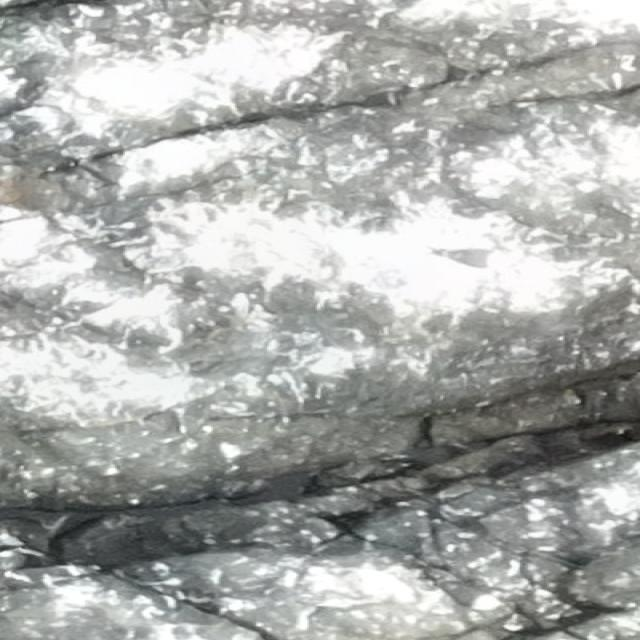umineko: (443, 580, 502, 609), (81, 160, 144, 187), (438, 247, 512, 268)
